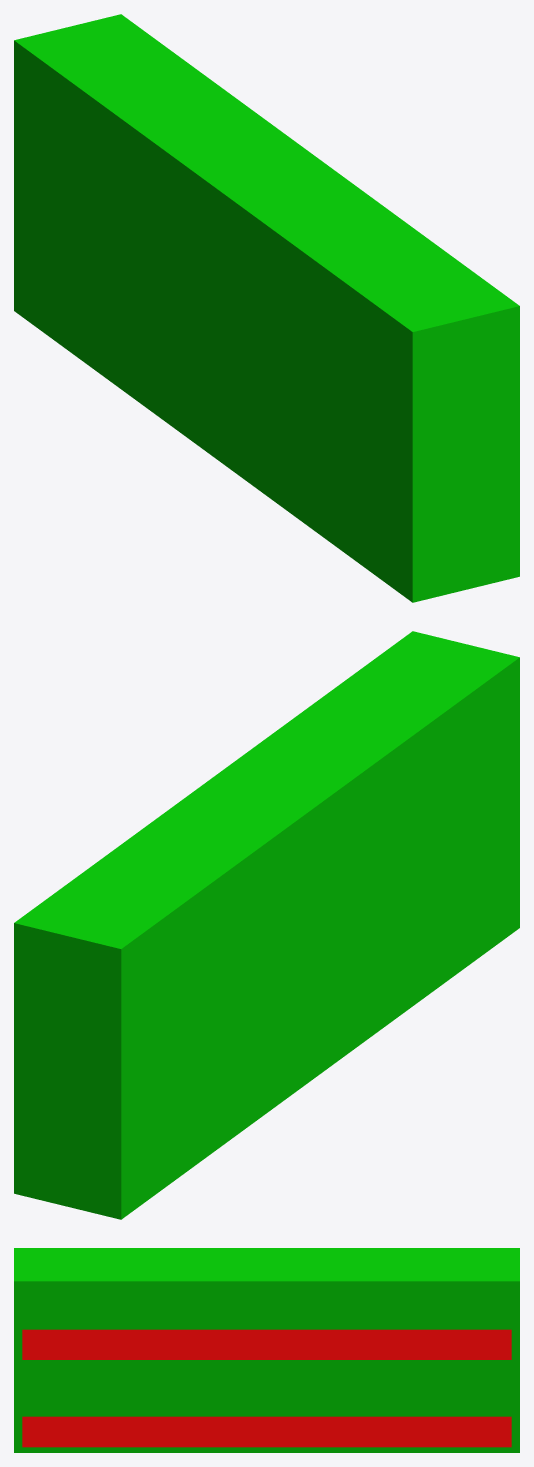
Rendered from osnova.fbx.
The picture shows the model from 3 angles, top to bottom: view 1: azimuth 30°, elevation 25°; view 2: azimuth 150°, elevation 25°; view 3: azimuth 270°, elevation 25°; orthographic projection. The views are drawn at different scales.
Visible parts, largest first — view 1: Cube; view 2: Cube; view 3: Cube.
Part boxes in pixels (bbox=[...]): Cube: bbox=[14, 14, 519, 602]; Cube: bbox=[14, 631, 519, 1219]; Cube: bbox=[14, 1248, 519, 1452].
Size of the model in its own units: 1278 by 3083 by 8235.
